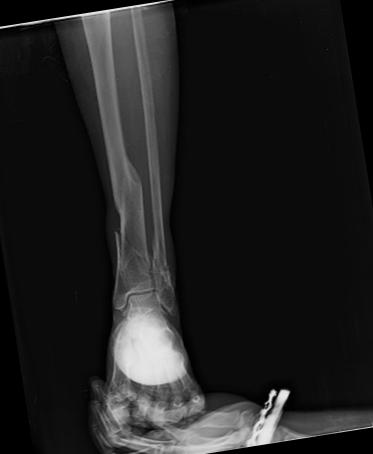fractured: (112, 218, 151, 270), (150, 250, 173, 296), (123, 149, 142, 192)
